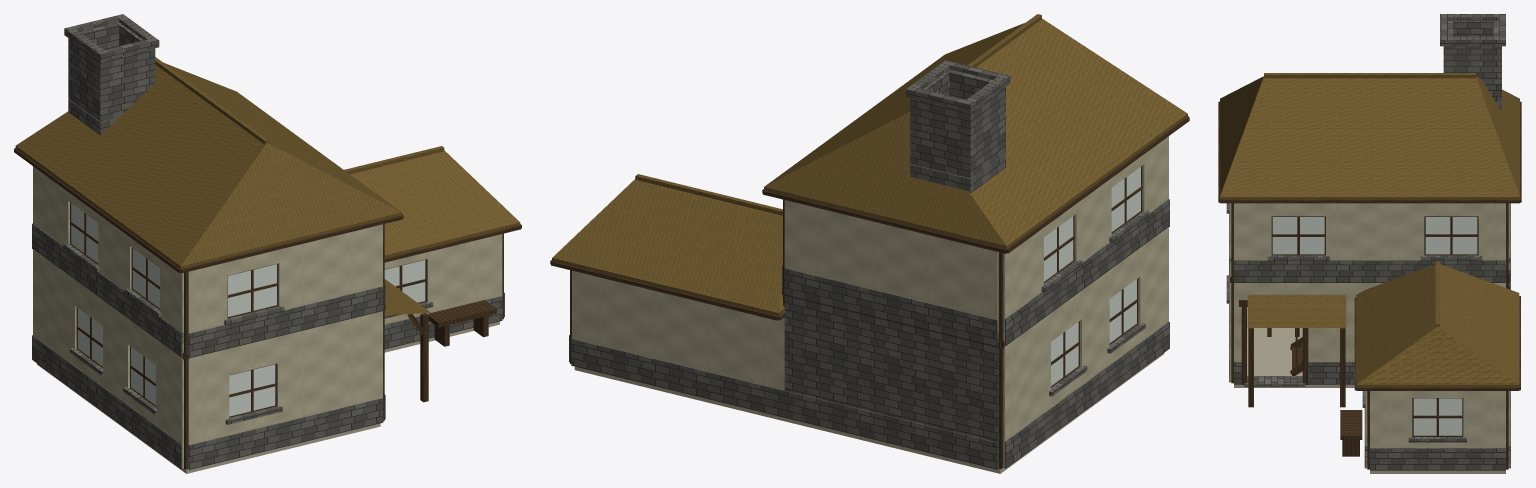
Rendered from kitchen-upper.glb.
The picture shows the model from 3 angles, left to right: view 1: azimuth 30°, elevation 25°; view 2: azimuth 150°, elevation 25°; view 3: azimuth 270°, elevation 25°; orthographic projection. The views are drawn at different scales.
Visible parts, largest first — view 1: Kitchen_Roof_0, Kitchen_UpperShell_0, Kitchen_Shell_0, Kitchen_GroundFront_0, Kitchen_UpperShell_1, Kitchen_Chimney_0, Kitchen_Shell_1, Kitchen_GroundFront_1, Kitchen_UpperShell_3, Kitchen_Glazing_0, Kitchen_Shell_2, Kitchen_Roof_1 (+4 smaller); view 2: Kitchen_Roof_0, Kitchen_Shell_1, Kitchen_Shell_0, Kitchen_UpperShell_0, Kitchen_UpperShell_1, Kitchen_Chimney_0, Kitchen_Roof_1, Kitchen_UpperShell_3, Kitchen_Glazing_0, Kitchen_Floor_0, Kitchen_Shell_2, Kitchen_UpperShell_2; view 3: Kitchen_Roof_0, Kitchen_UpperShell_0, Kitchen_UpperShell_1, Kitchen_Shell_0, Kitchen_Chimney_0, Kitchen_GroundFront_0, Kitchen_Shell_1, Kitchen_UpperShell_3, Kitchen_Roof_1, Kitchen_Floor_0, Kitchen_Shell_2, Kitchen_Glazing_0 (+5 smaller).
Part boxes in pixels (left/top/right/bottom): Kitchen_Roof_0: left=15, top=57, right=520, bottom=315; Kitchen_UpperShell_0: left=33, top=166, right=382, bottom=356; Kitchen_Shell_0: left=33, top=234, right=502, bottom=468; Kitchen_GroundFront_0: left=188, top=311, right=382, bottom=469; Kitchen_UpperShell_1: left=32, top=223, right=385, bottom=358; Kitchen_Chimney_0: left=64, top=14, right=159, bottom=135; Kitchen_Shell_1: left=32, top=292, right=504, bottom=468; Kitchen_GroundFront_1: left=188, top=394, right=385, bottom=469; Kitchen_UpperShell_3: left=71, top=203, right=276, bottom=316; Kitchen_Glazing_0: left=78, top=260, right=425, bottom=404; Kitchen_Shell_2: left=76, top=233, right=503, bottom=469; Kitchen_Roof_1: left=14, top=148, right=521, bottom=273; Kitchen_Roof_0: left=552, top=14, right=1187, bottom=316; Kitchen_Shell_1: left=569, top=295, right=1169, bottom=469; Kitchen_Shell_0: left=572, top=227, right=1168, bottom=468; Kitchen_UpperShell_0: left=784, top=136, right=1168, bottom=343; Kitchen_UpperShell_1: left=782, top=199, right=1169, bottom=346; Kitchen_Chimney_0: left=906, top=60, right=1010, bottom=193; Kitchen_Roof_1: left=550, top=116, right=1189, bottom=320; Kitchen_UpperShell_3: left=1044, top=167, right=1140, bottom=281; Kitchen_Glazing_0: left=1051, top=279, right=1136, bottom=385; Kitchen_Floor_0: left=574, top=353, right=1164, bottom=473; Kitchen_Shell_2: left=570, top=270, right=1138, bottom=468; Kitchen_UpperShell_2: left=782, top=166, right=1169, bottom=348; Kitchen_Roof_0: left=1220, top=73, right=1519, bottom=387; Kitchen_UpperShell_0: left=1229, top=203, right=1510, bottom=269; Kitchen_UpperShell_1: left=1226, top=203, right=1510, bottom=282; Kitchen_Shell_0: left=1365, top=283, right=1510, bottom=468; Kitchen_Chimney_0: left=1440, top=14, right=1505, bottom=111; Kitchen_GroundFront_0: left=1229, top=270, right=1369, bottom=382; Kitchen_Shell_1: left=1362, top=270, right=1510, bottom=470; Kitchen_UpperShell_3: left=1272, top=217, right=1477, bottom=254; Kitchen_Roof_1: left=1218, top=101, right=1521, bottom=390; Kitchen_Floor_0: left=1234, top=307, right=1505, bottom=473; Kitchen_Shell_2: left=1231, top=271, right=1508, bottom=469; Kitchen_Glazing_0: left=1413, top=398, right=1462, bottom=435.
Size of the model in its own units: 12.92 by 9.74 by 8.94.
Materials: 12 (4 with a texture image).
